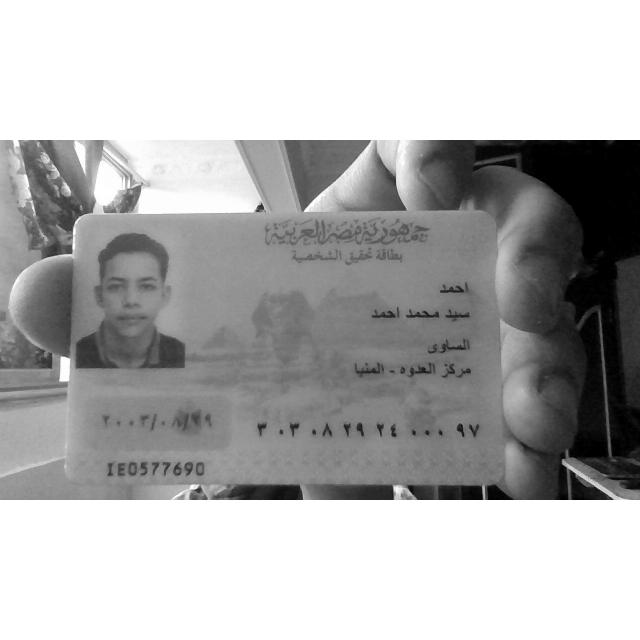id_card: (65, 211, 504, 484)
